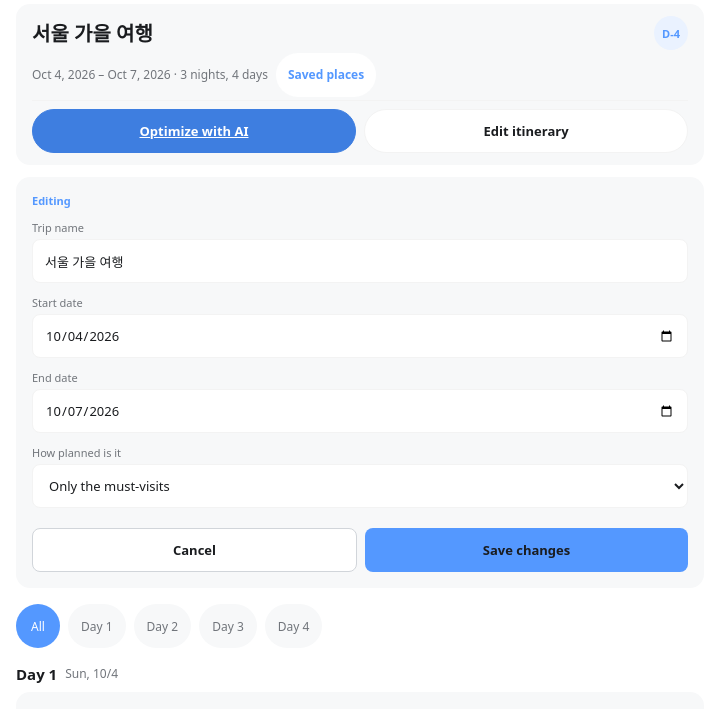
Scenario: FE-306-T2 the impact appears only when the range actually narrows › lists the stops left outside when the range narrows
Check: the field labelled "Trip name" is shown, box [32,239,688,283]
Type "2026-10-05" into the date field labelled "Start date" at (360, 336), box [32,314,688,358]
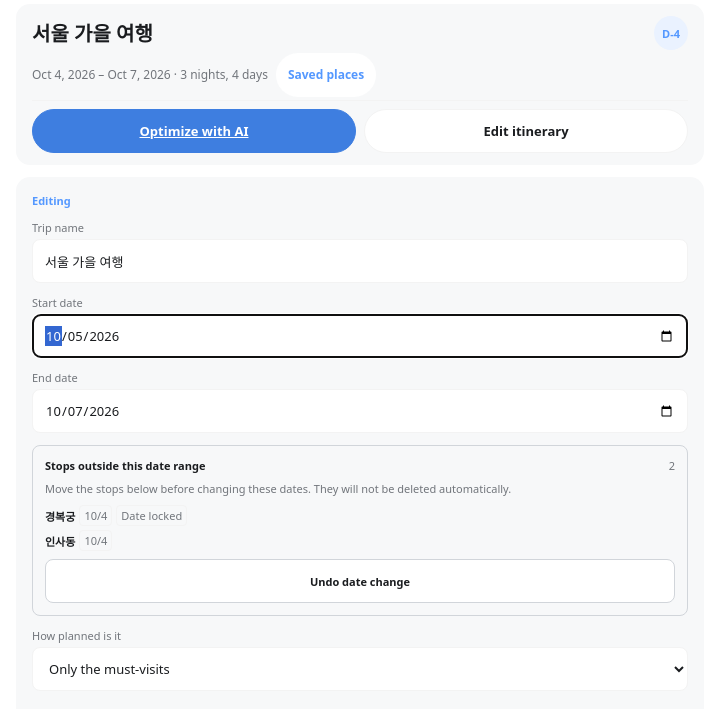
Check: the text "경복궁" is shown, box [45,508,75,524]
Check: the text "인사동" is shown, box [45,532,75,548]
